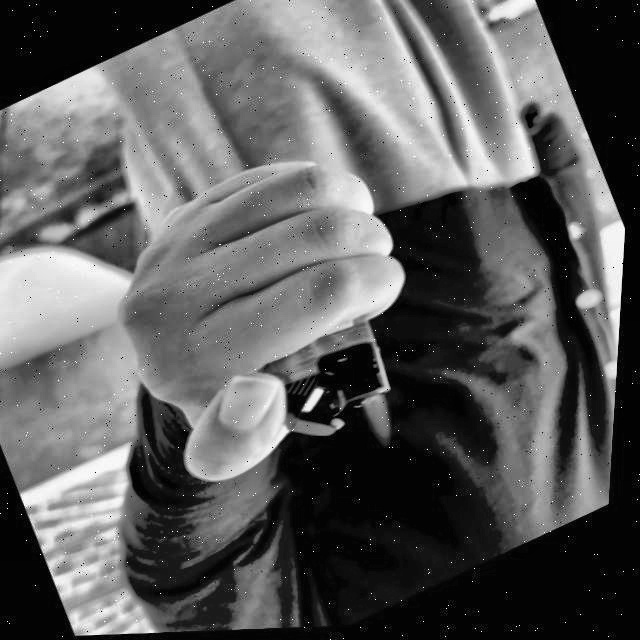Fire: (358, 390, 411, 454)
